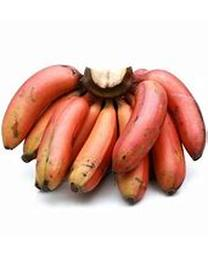banana: (0, 63, 206, 205)
